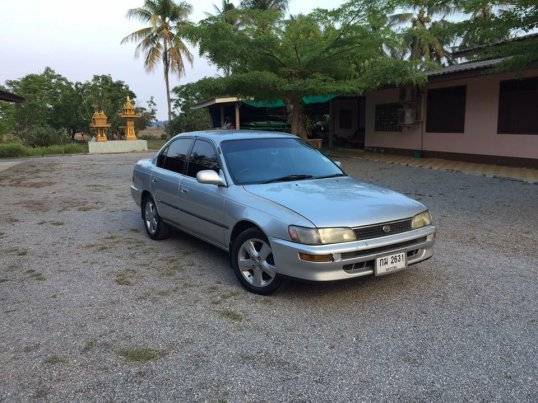sedan: (130, 128, 438, 295)
